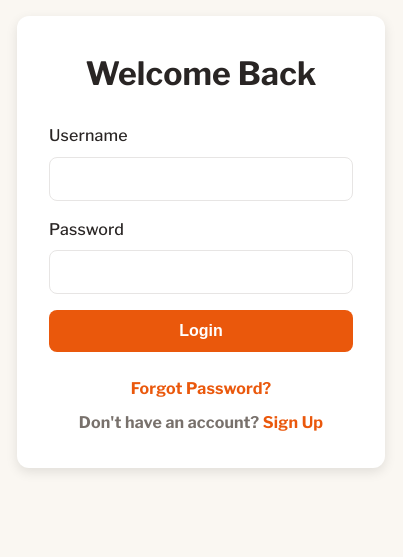
Scenario: Login Page › should show error on invalid credentials
Type "wronguser" into the field labelled "Username" at (201, 179), box [49, 157, 353, 201]
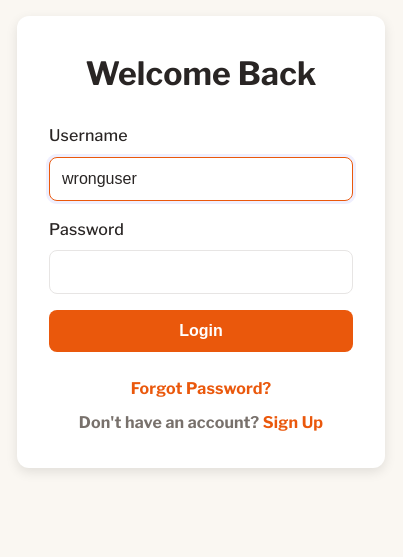
Type "wrongpassword" into the password field labelled "Password" at (201, 272), box [49, 250, 353, 294]
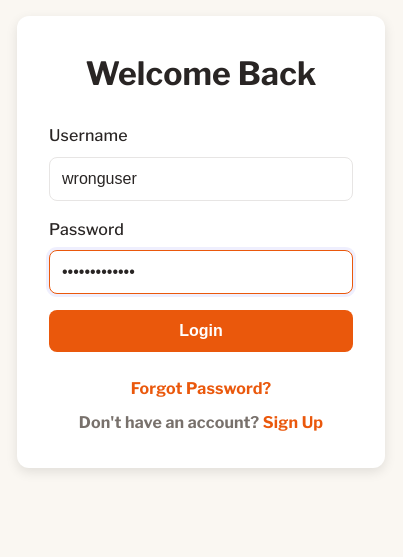
Click the button "Login" at (201, 331), box [49, 310, 353, 352]
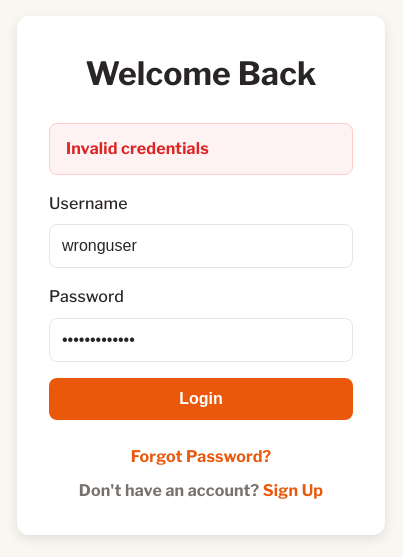
Check: the text "Invalid credentials" is shown, box [49, 123, 353, 175]
